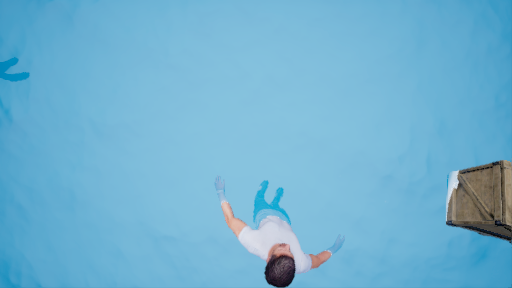person: (214, 173, 355, 287)
